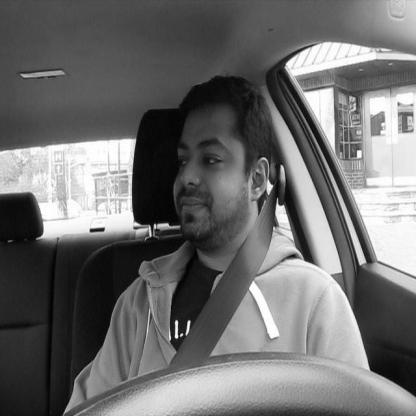seatbelt: (164, 69, 276, 362)
